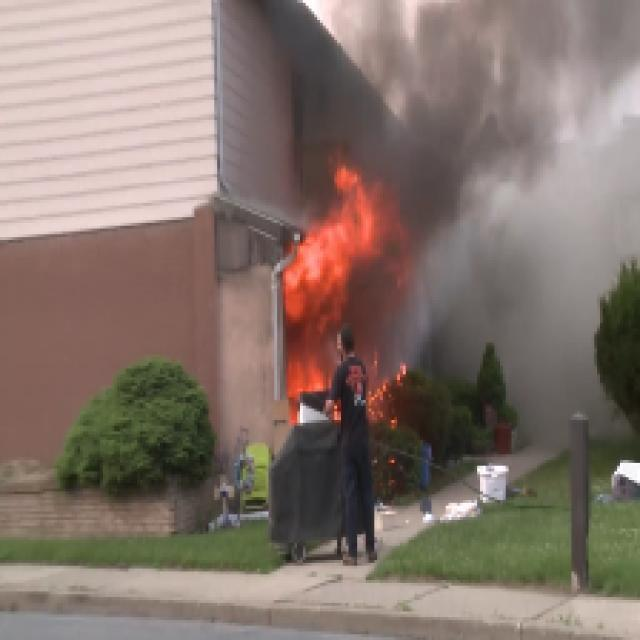Fire: (278, 167, 390, 401)
Smoke: (388, 0, 605, 391)
